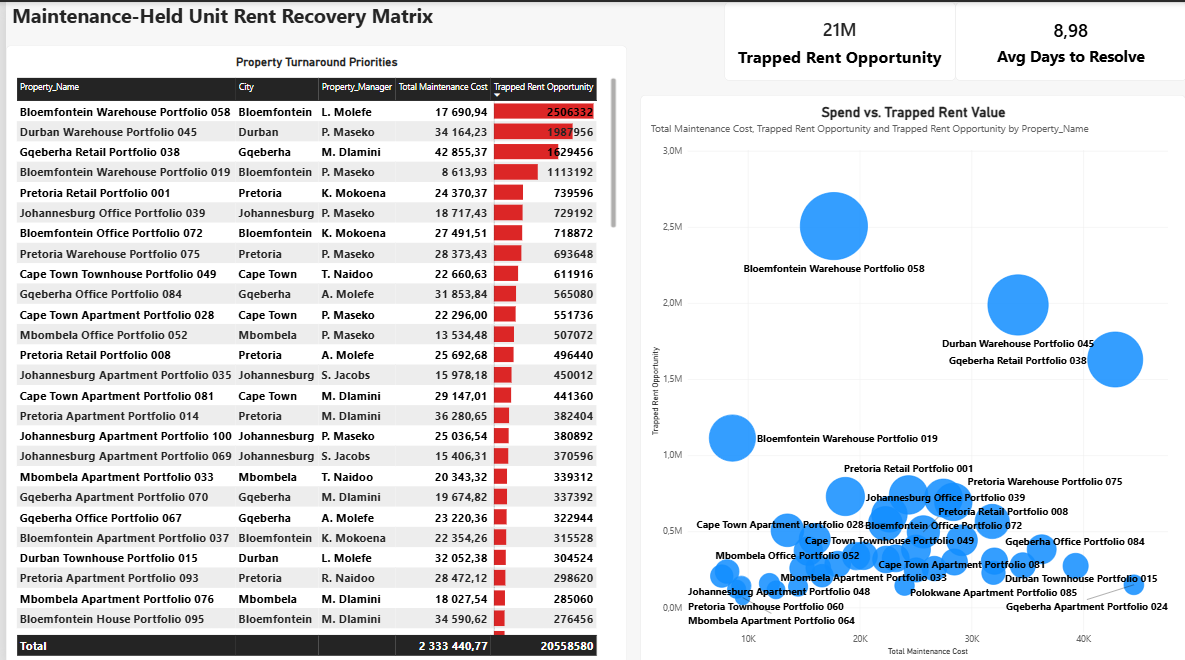

What the dashboard file says about the page in this screenshot:
{"tool":"powerbi","page":{"name":"Rent Recovery & Turnaround Matrix","canvas":[1920,1080],"ordinal":1},"visuals":[{"type":"textbox","box":[10,0,694,70.2],"z":0},{"type":"card","fields":{"Values":["_Key Measures.Trapped Rent Opportunity"]},"box":[1167.5,0,375.8,127.8],"z":1000},{"type":"card","fields":{"Values":["_Key Measures.Avg Days to Resolve"]},"box":[1543.4,0,375.8,127.8],"z":2000},{"type":"tableEx","title":"Property Turnaround Priorities","fields":{"Values":["Properties.Property_Name","Properties.City","Properties.Property_Manager","_Key Measures.Total Maintenance Cost","_Key Measures.Trapped Rent Opportunity"]},"box":[0,70.2,1009.7,1009.7],"z":3000},{"type":"scatterChart","title":"Spend vs. Trapped Rent Value","fields":{"X":["_Key Measures.Total Maintenance Cost"],"Y":["_Key Measures.Trapped Rent Opportunity"],"Category":["Properties.Property_Name"],"Size":["_Key Measures.Trapped Rent Opportunity"]},"box":[1032.2,150.3,886.9,929.5],"z":4000}]}

Visuals, with their boxes in screenshot pixels (x1, y1, x2, y2), scaled from the page's 1920x1080 canvas onto the 1185x660 screenshot:
textbox: x1=6 y1=0 x2=434 y2=43
card - _Key Measures.Trapped Rent Opportunity: x1=721 y1=0 x2=953 y2=78
card - _Key Measures.Avg Days to Resolve: x1=953 y1=0 x2=1184 y2=78
"Property Turnaround Priorities" tableEx: x1=0 y1=43 x2=623 y2=659
"Spend vs. Trapped Rent Value" scatterChart: x1=637 y1=92 x2=1184 y2=659
